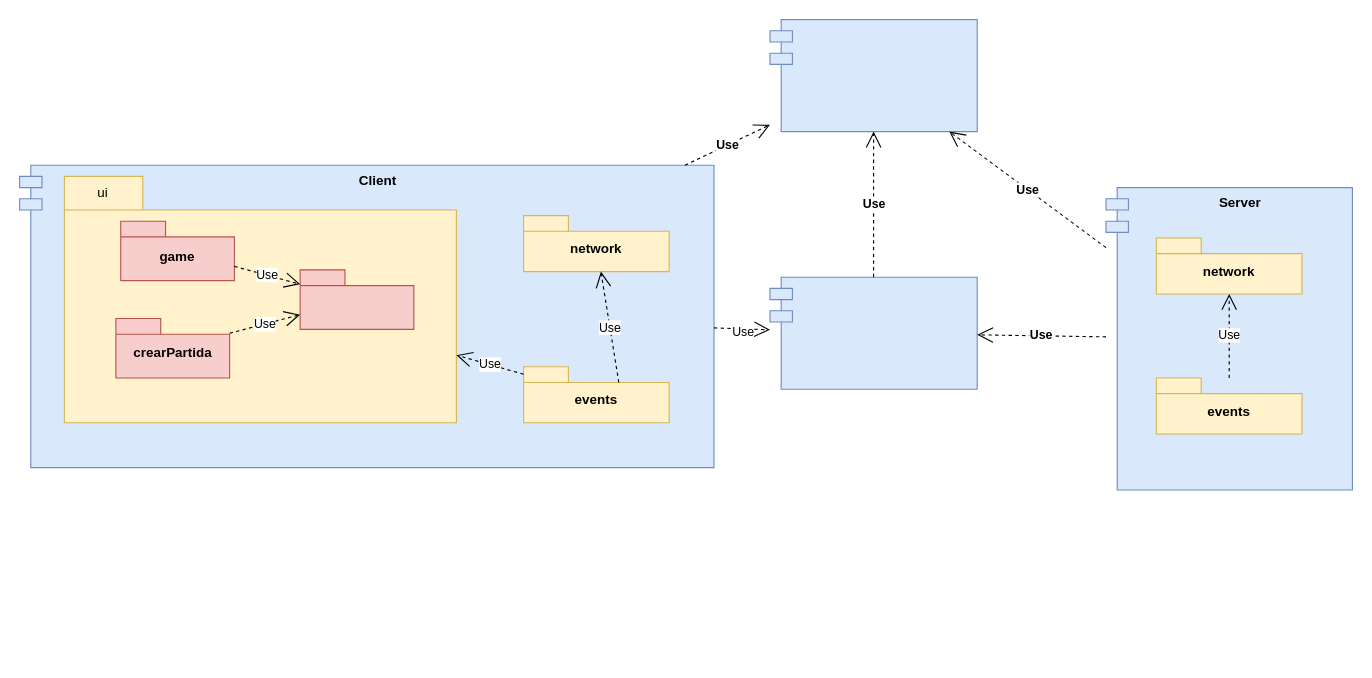
Some shapes in this 1372 by 678 pixel diagram are drawn without their labels. Here are the shapes that lost their labels. From the top down, the centre of each, then its label:
[873,75]: Domain
[356,299]: graphicsManager
[873,332]: EventSchema
